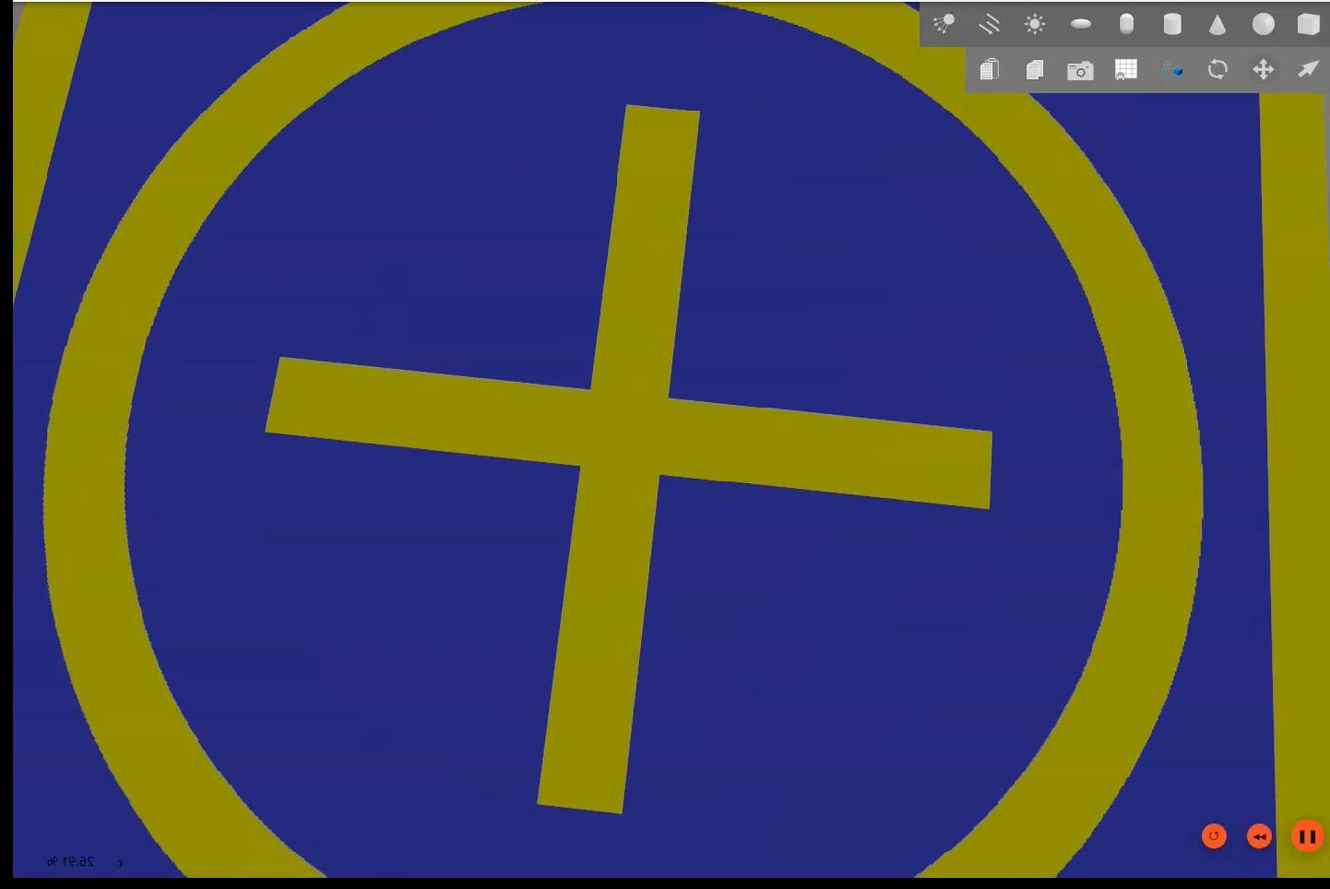small_base: (13, 1, 1328, 883)
